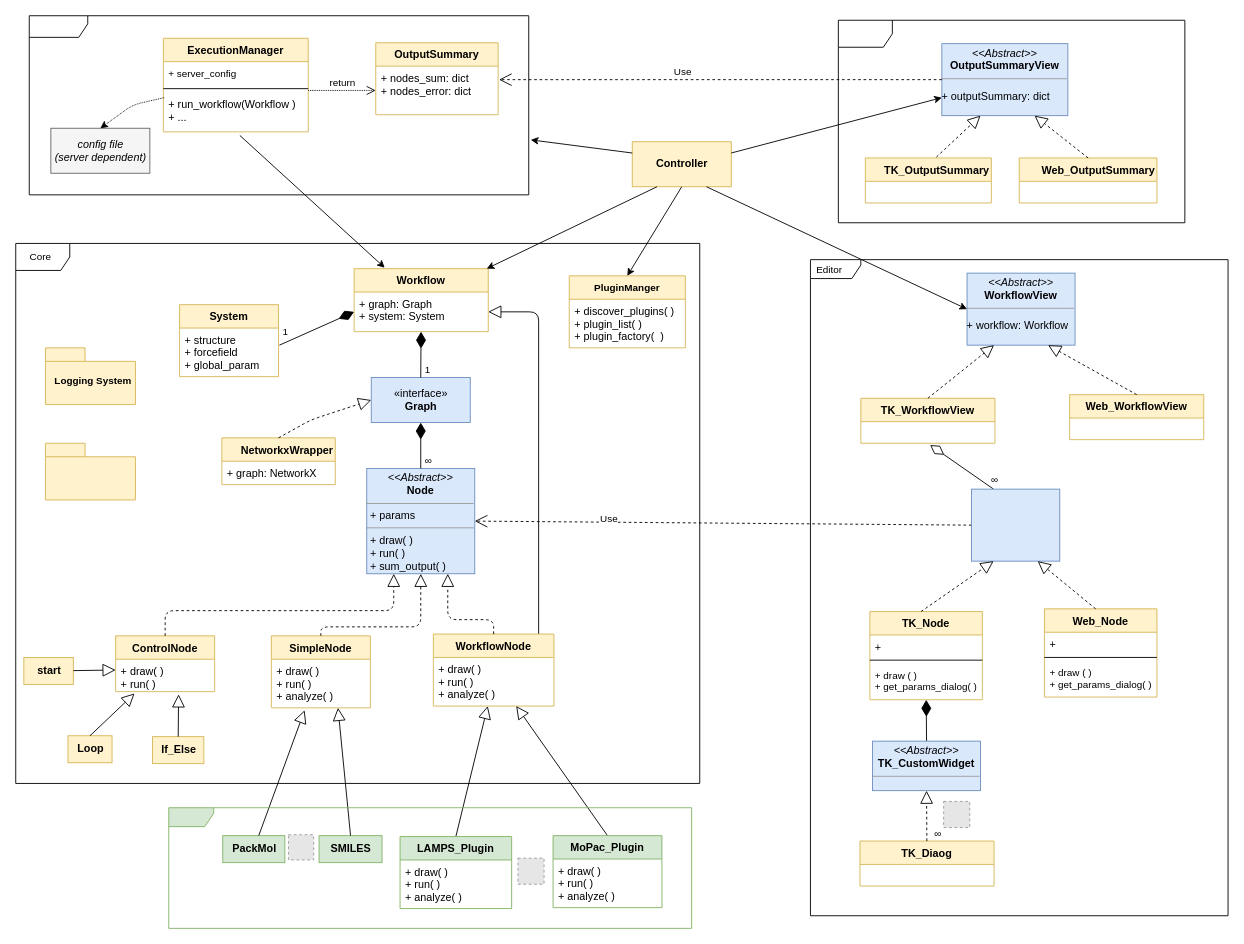
Some shapes in this 1244 by 944 pixel diagram are drawn without their labels. Grey dashed boxes stand in for pictures. Each missing label, with the centre of its shape:
<<Abstract>> NodeView + node: Node: [1015,524]
Citation System: [90,471]
Execution: [278,105]
Plugins: [430,867]
Results: [1011,121]
